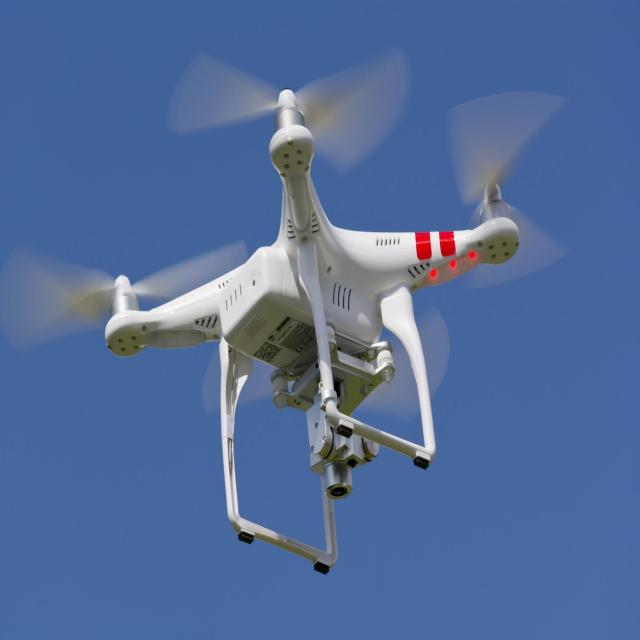UAV: (97, 84, 525, 579)
